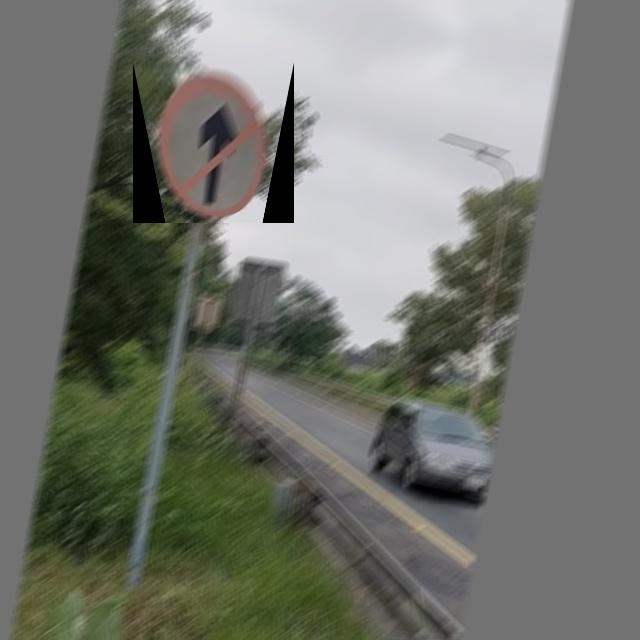No_Entry: (133, 62, 294, 223)
